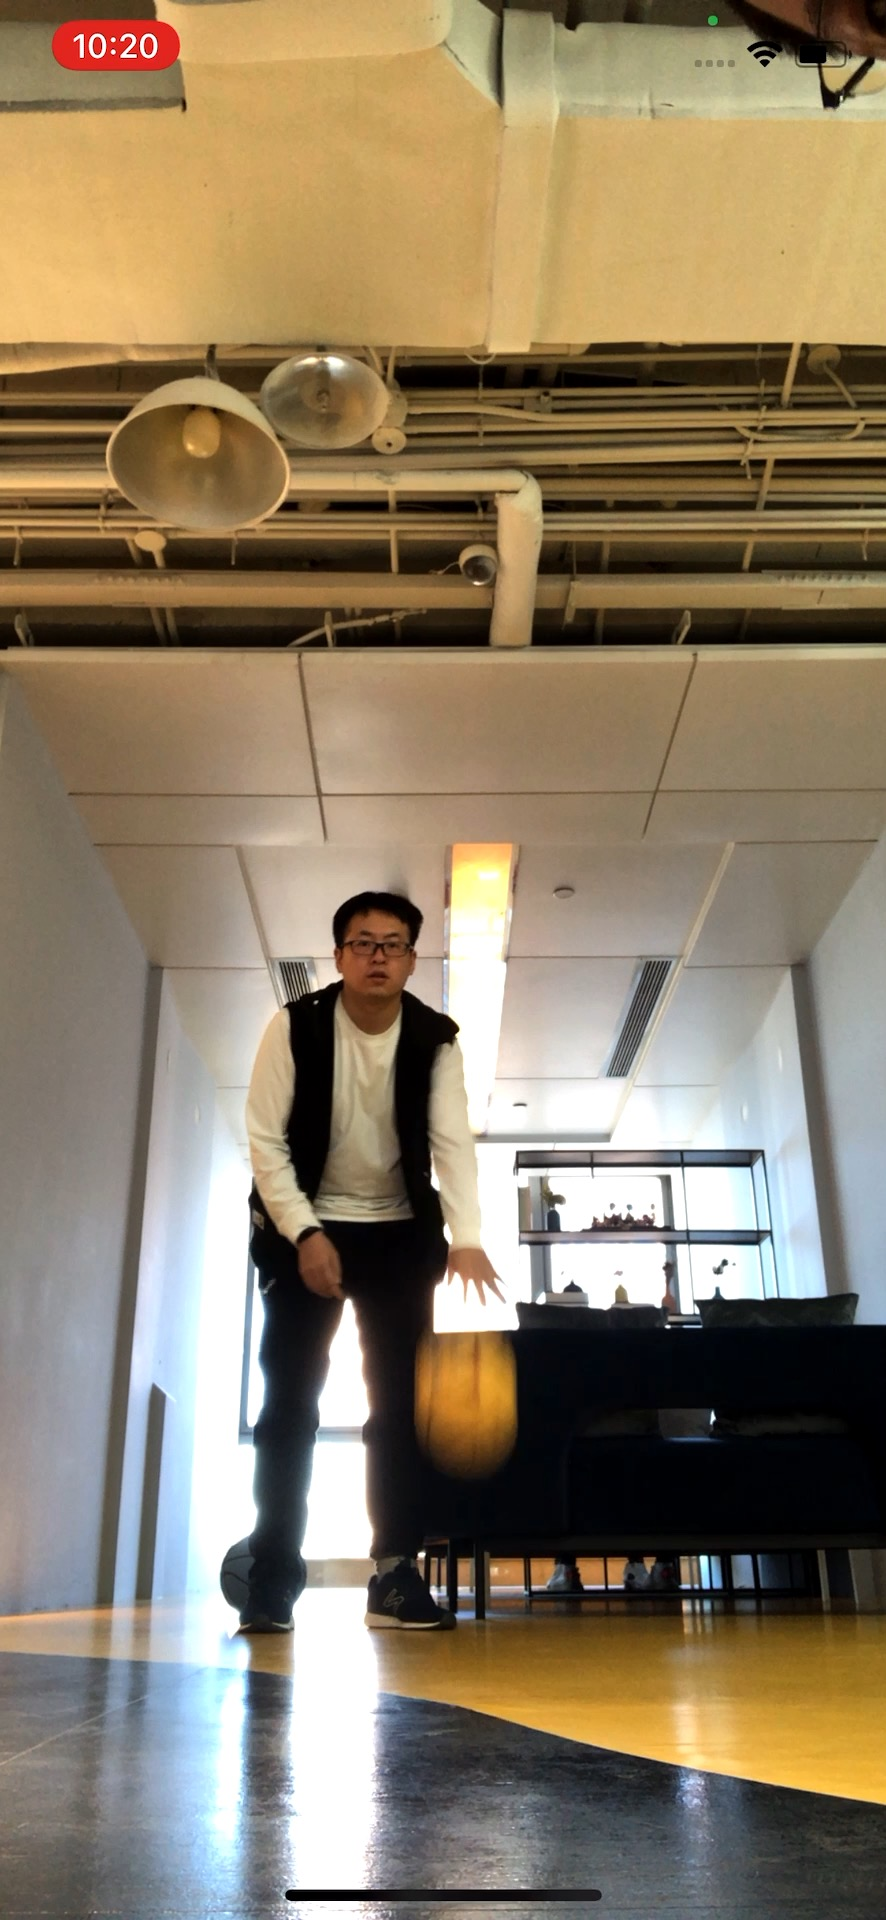ball: (414, 1340, 525, 1468)
